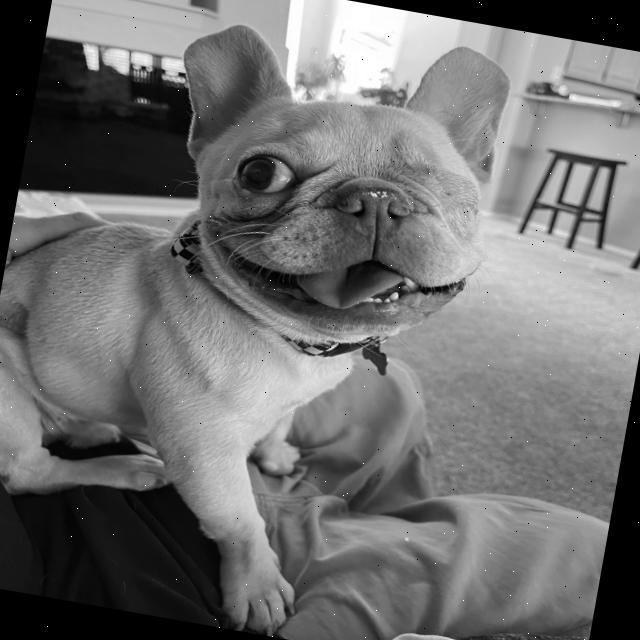french_bulldog_dog: (128, 0, 543, 370)
